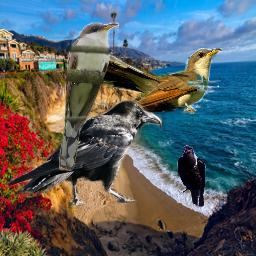Crow: (7, 99, 162, 212), (177, 145, 206, 208)
Cuckoo: (74, 48, 222, 114), (59, 22, 119, 171)
